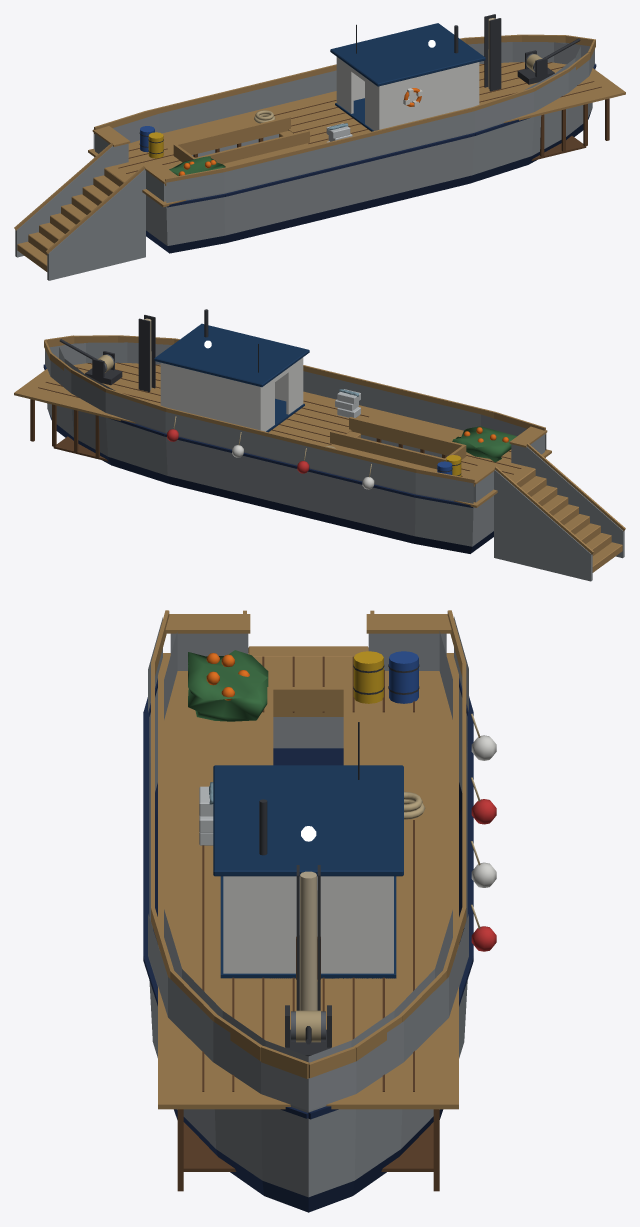
The model's file is tf-boat-p3.glb.
3 views of the same model, one above another, from view 1: azimuth 30°, elevation 25°; view 2: azimuth 150°, elevation 25°; view 3: azimuth 270°, elevation 25° (orthographic). The views are drawn at different scales.
Visible parts, largest first — view 1: tf-boat-p3; view 2: tf-boat-p3; view 3: tf-boat-p3.
Boxes of the visible parts, bbox=[...] form: tf-boat-p3: bbox=[14, 14, 625, 280]; tf-boat-p3: bbox=[14, 309, 625, 581]; tf-boat-p3: bbox=[143, 610, 496, 1212].
Size of the model in its own units: 26.03 by 6.7 by 7.04.
